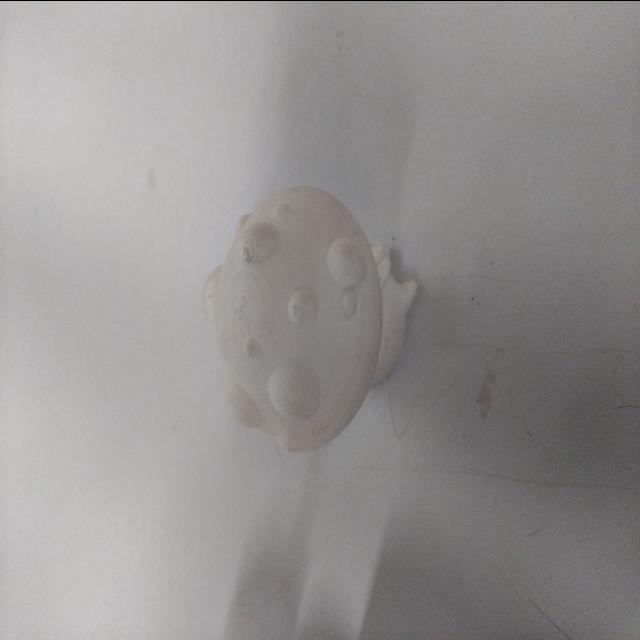Hongo: (198, 167, 428, 458)
